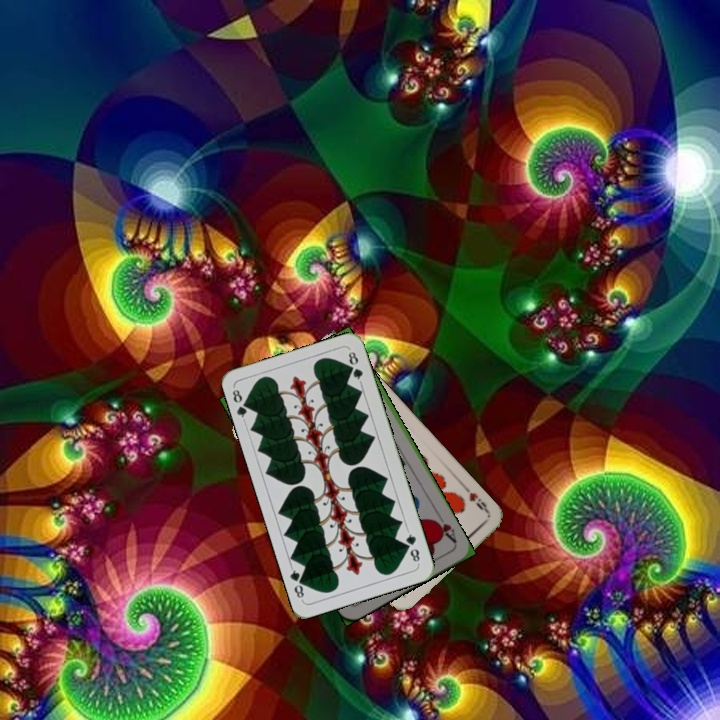G8: (228, 383, 253, 424), (402, 527, 423, 566)
H9: (460, 483, 492, 516)
HA: (429, 509, 459, 546)
